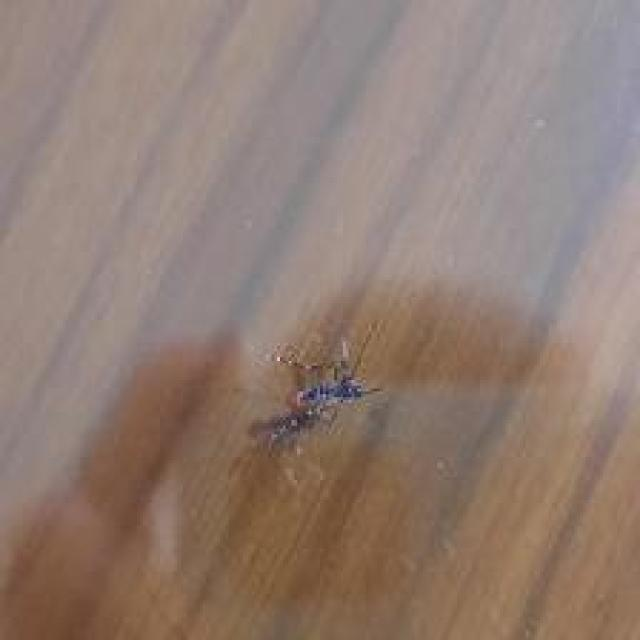Aedes albopictus: (247, 318, 384, 458)
